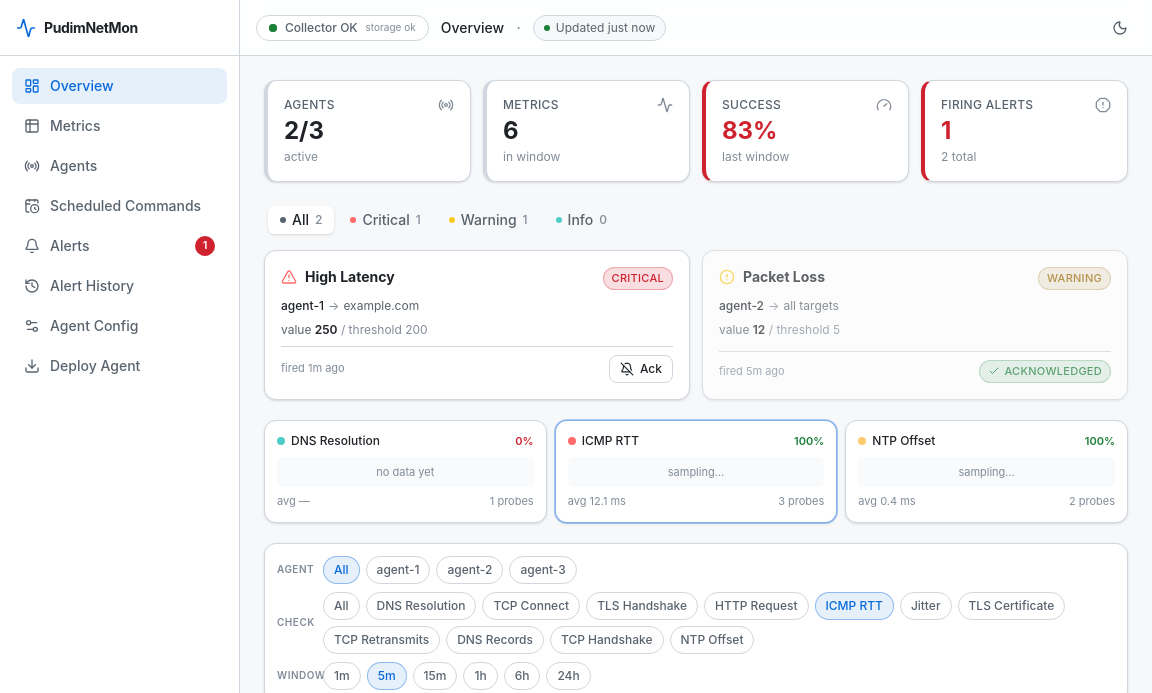
Scenario: PudimNetMon dashboard › switches views via the sidebar
Click the button "Agent Config" at (120, 326), box [12,308,227,344]
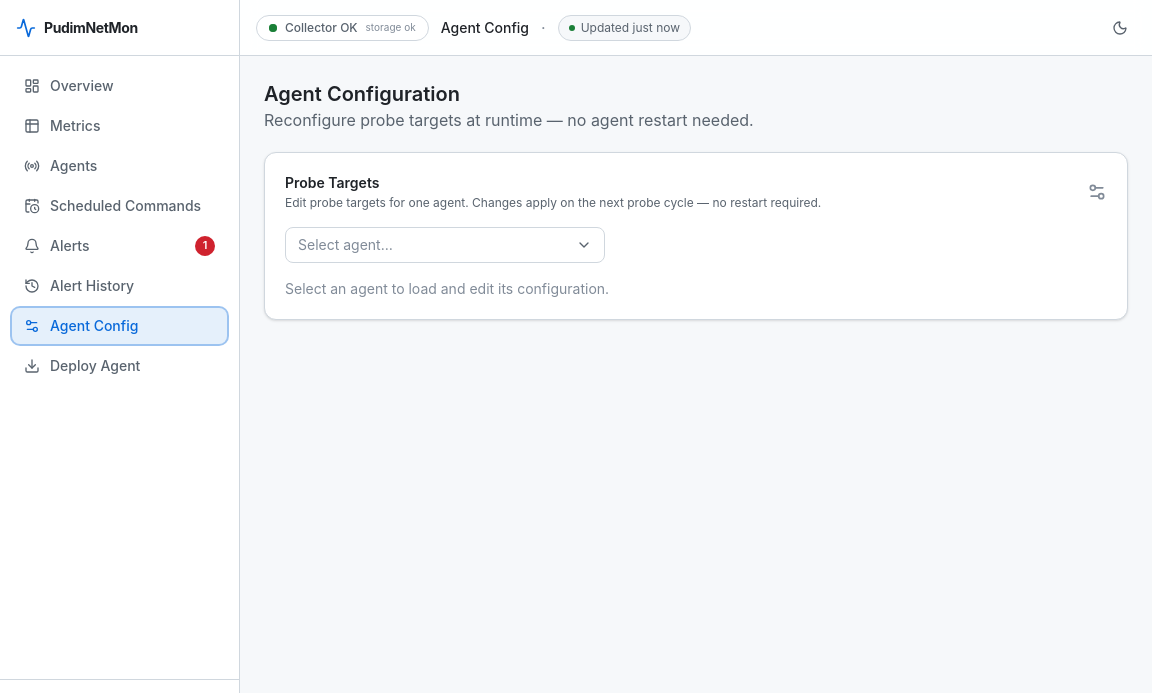
Expected: the heading "Agent Configuration" is shown, [264,82,460,106]
Click the button "Agents" at (120, 166), box [12,148,227,184]
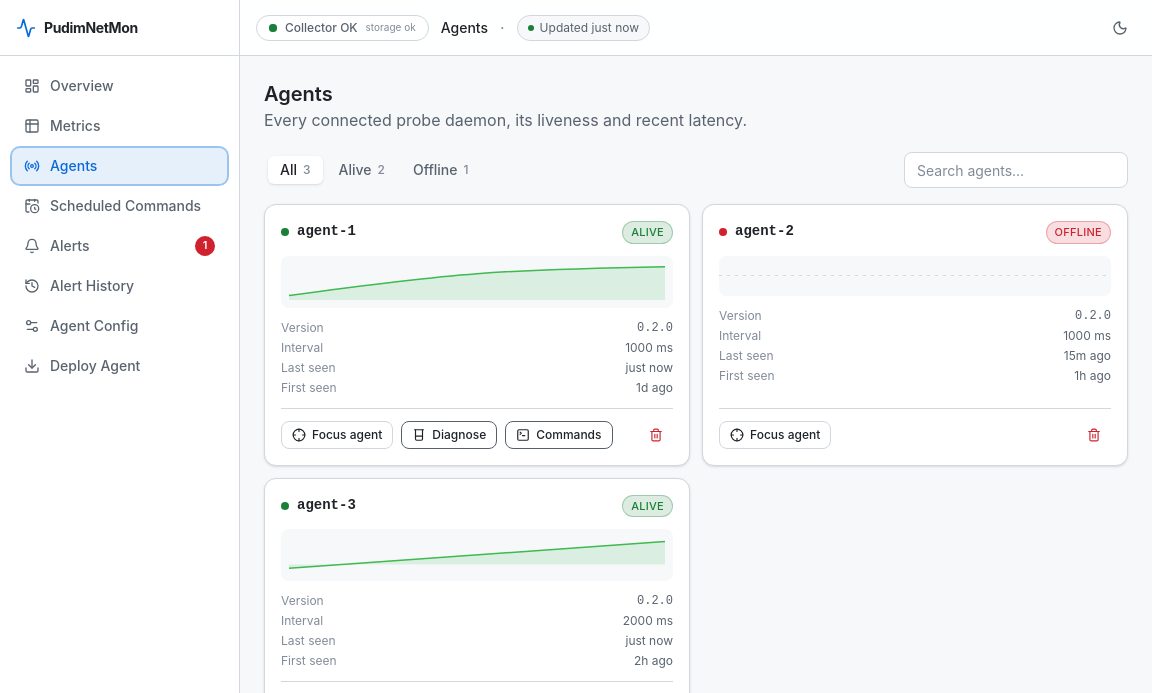
Expected: the search field with placeholder "Search agents…" is shown, [904,152,1128,188]
